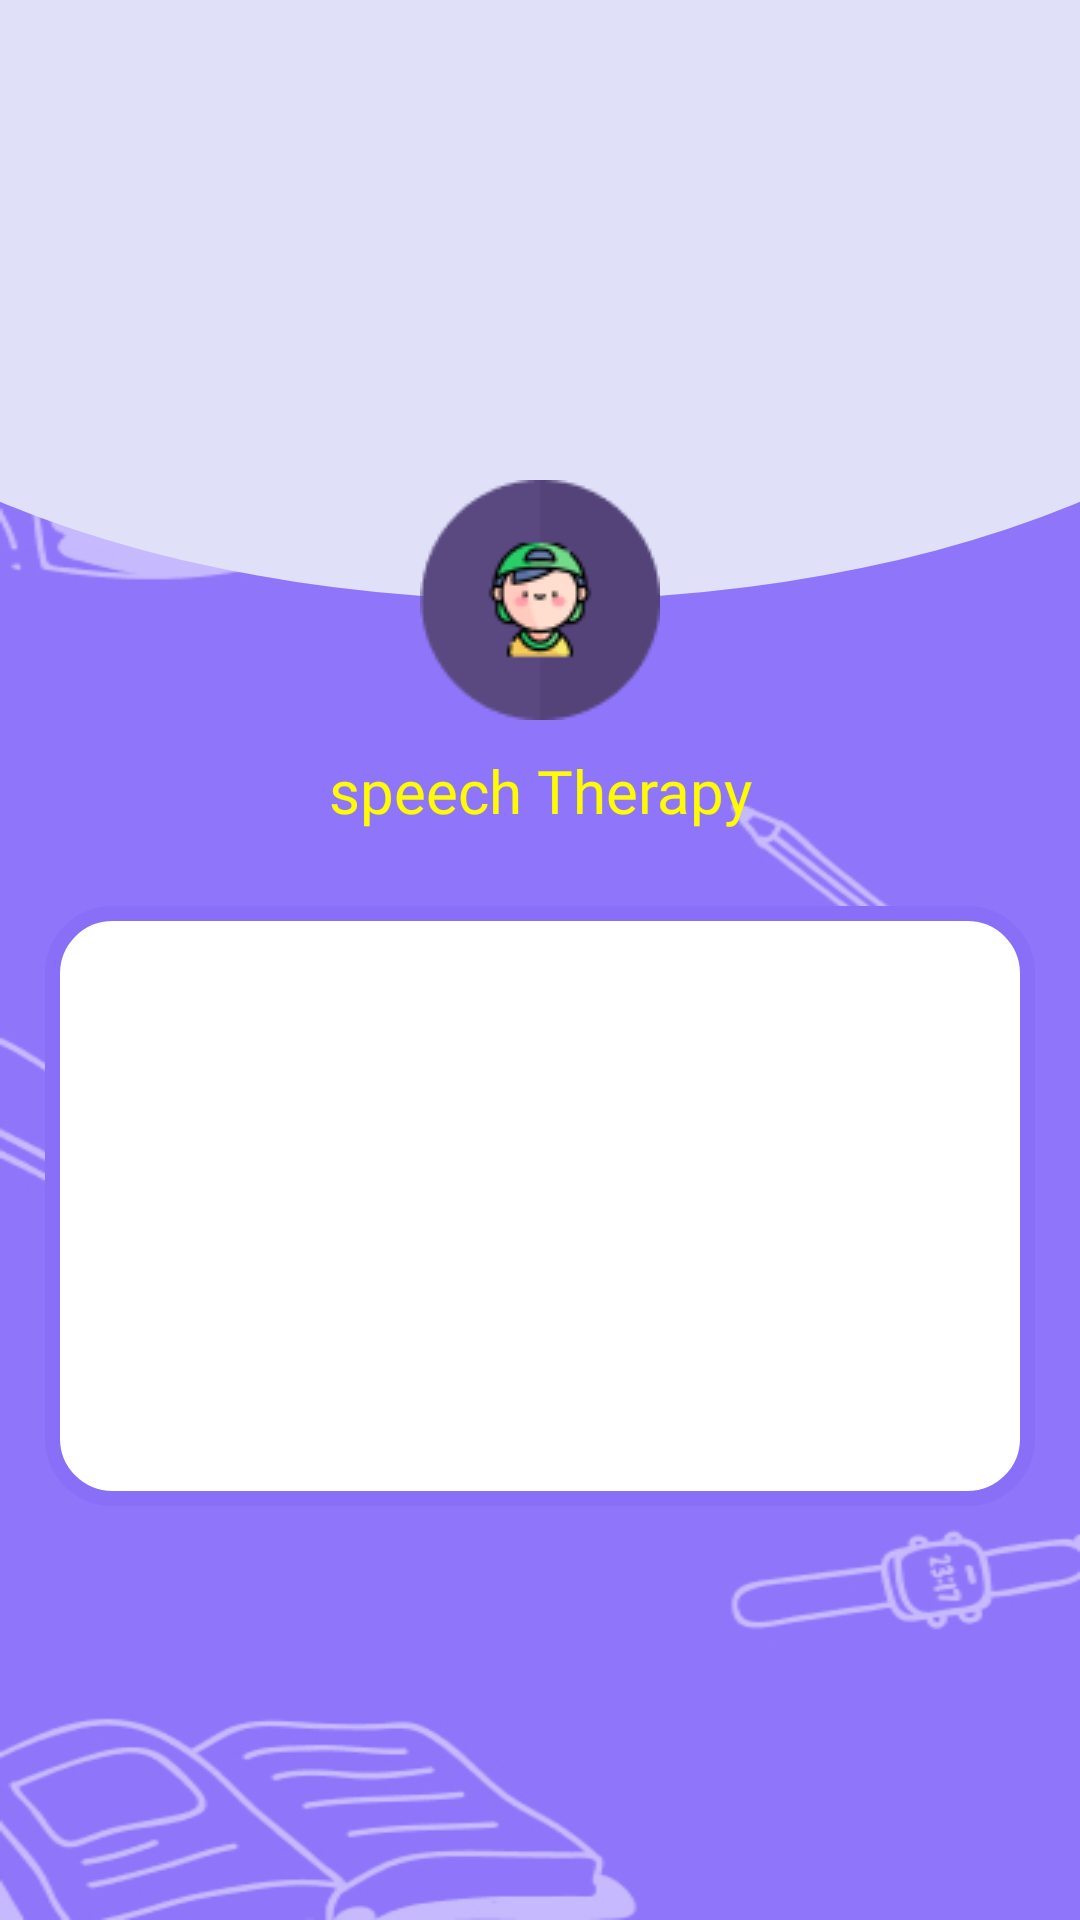

Point at icon controls on the screen. Image size 1080 x 1920, points as [x,y].
profile: [540,600]
